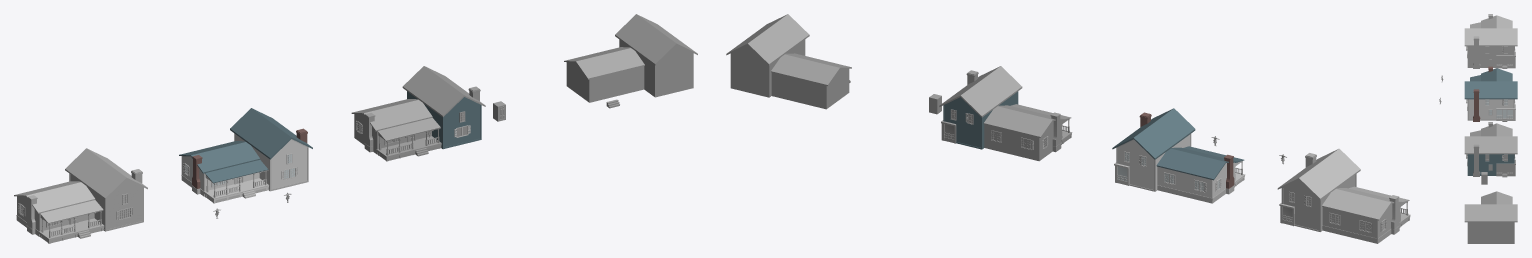
The model's file is 平民大房C 1.fbx.
3 views of the same model, side by side, from view 1: azimuth 30°, elevation 25°; view 2: azimuth 150°, elevation 25°; view 3: azimuth 270°, elevation 25° (orthographic). The views are drawn at different scales.
Visible parts, largest first — view 1: pCube227, polySurface28, polySurface25, polySurface27, polySurface21, polySurface40, polySurface42, polySurface19, polySurface26, polySurface39, polySurface23, pCube105 (+5 smaller); view 2: pCube227, polySurface25, polySurface28, polySurface27, polySurface40, polySurface21, polySurface42, polySurface41, polySurface19, polySurface26, polySurface22, polySurface39 (+1 smaller); view 3: pCube227, polySurface28, polySurface27, polySurface21, polySurface40, polySurface42, polySurface19, polySurface39, polySurface26, polySurface23, pCube78, pCube163 (+5 smaller).
Boxes of the visible parts, left/top/right/bottom form: pCube227: left=14, top=148, right=147, bottom=243; polySurface28: left=619, top=39, right=693, bottom=97; polySurface25: left=566, top=62, right=644, bottom=102; polySurface27: left=615, top=14, right=697, bottom=65; polySurface21: left=402, top=66, right=485, bottom=116; polySurface40: left=230, top=108, right=312, bottom=159; polySurface42: left=234, top=133, right=308, bottom=191; polySurface19: left=407, top=91, right=481, bottom=149; polySurface26: left=564, top=47, right=644, bottom=79; polySurface39: left=179, top=141, right=260, bottom=173; polySurface23: left=351, top=99, right=432, bottom=131; pCube105: left=204, top=178, right=268, bottom=203; pCube227: left=1277, top=148, right=1410, bottom=243; polySurface25: left=771, top=68, right=849, bottom=109; polySurface28: left=730, top=39, right=805, bottom=97; polySurface27: left=726, top=14, right=809, bottom=65; polySurface40: left=1112, top=108, right=1195, bottom=159; polySurface21: left=939, top=66, right=1022, bottom=117; polySurface42: left=1116, top=134, right=1191, bottom=191; polySurface41: left=1157, top=162, right=1235, bottom=203; polySurface19: left=943, top=91, right=1018, bottom=149; polySurface26: left=771, top=53, right=851, bottom=85; polySurface22: left=984, top=120, right=1061, bottom=161; polySurface39: left=1156, top=147, right=1237, bottom=180; pCube227: left=1464, top=14, right=1517, bottom=68; polySurface28: left=1467, top=222, right=1514, bottom=243; polySurface27: left=1464, top=204, right=1517, bottom=222; polySurface21: left=1464, top=136, right=1517, bottom=154; polySurface40: left=1464, top=81, right=1517, bottom=99; polySurface42: left=1467, top=99, right=1514, bottom=120; polySurface19: left=1467, top=154, right=1514, bottom=175; polySurface39: left=1481, top=68, right=1512, bottom=81; polySurface26: left=1481, top=191, right=1512, bottom=204; polySurface23: left=1481, top=123, right=1512, bottom=136; pCube78: left=1496, top=159, right=1515, bottom=176; pCube163: left=1496, top=104, right=1515, bottom=120.
Size of the model in its own units: 125 by 9.41 by 19.99.
